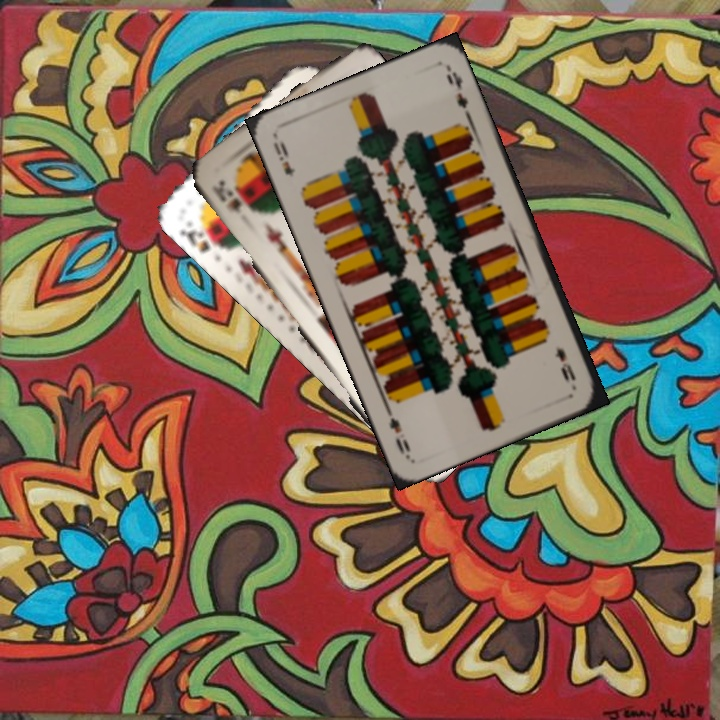E9: (269, 137, 299, 180), (551, 343, 578, 386)
SK: (176, 215, 228, 256), (208, 175, 245, 217)
